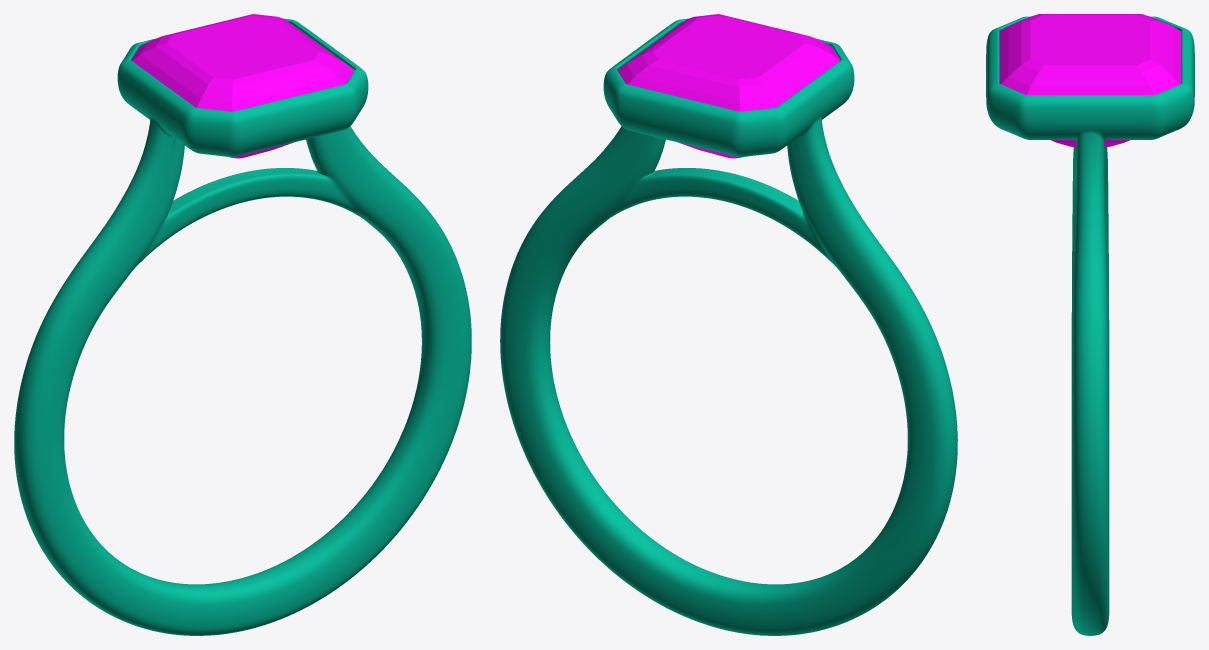
Rendered from BE12430_AS_200ct_RENDER.glb.
The picture shows the model from 3 angles, left to right: view 1: azimuth 30°, elevation 25°; view 2: azimuth 150°, elevation 25°; view 3: azimuth 270°, elevation 25°; orthographic projection.
Parts seen in each view (by area): view 1: Metal 01, CS_Diamond_Asscher; view 2: Metal 01, CS_Diamond_Asscher; view 3: Metal 01, CS_Diamond_Asscher.
Part boxes in pixels (<box>): Metal 01: <box>14,18,471,635</box>; CS_Diamond_Asscher: <box>131,14,354,158</box>; Metal 01: <box>500,18,957,635</box>; CS_Diamond_Asscher: <box>617,14,840,158</box>; Metal 01: <box>986,16,1194,635</box>; CS_Diamond_Asscher: <box>999,14,1181,147</box>.
Bounding box in the file's own units: 20.51 × 25.16 × 8.32.
